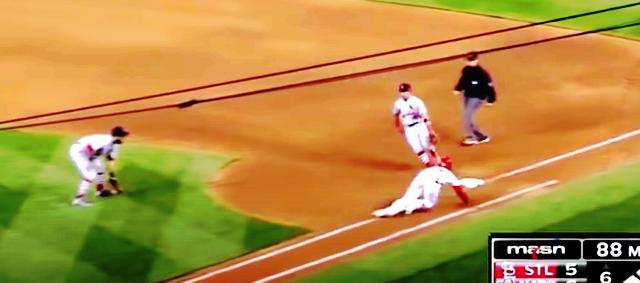jatuh: (369, 153, 477, 222)
